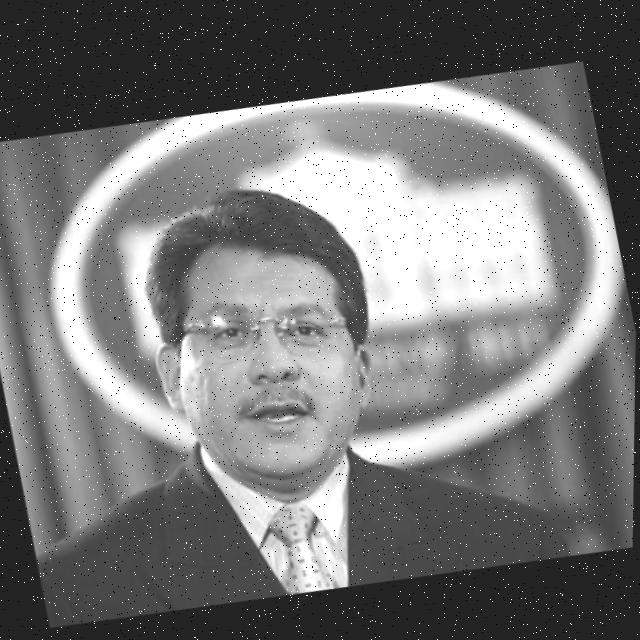face: (168, 239, 378, 502)
